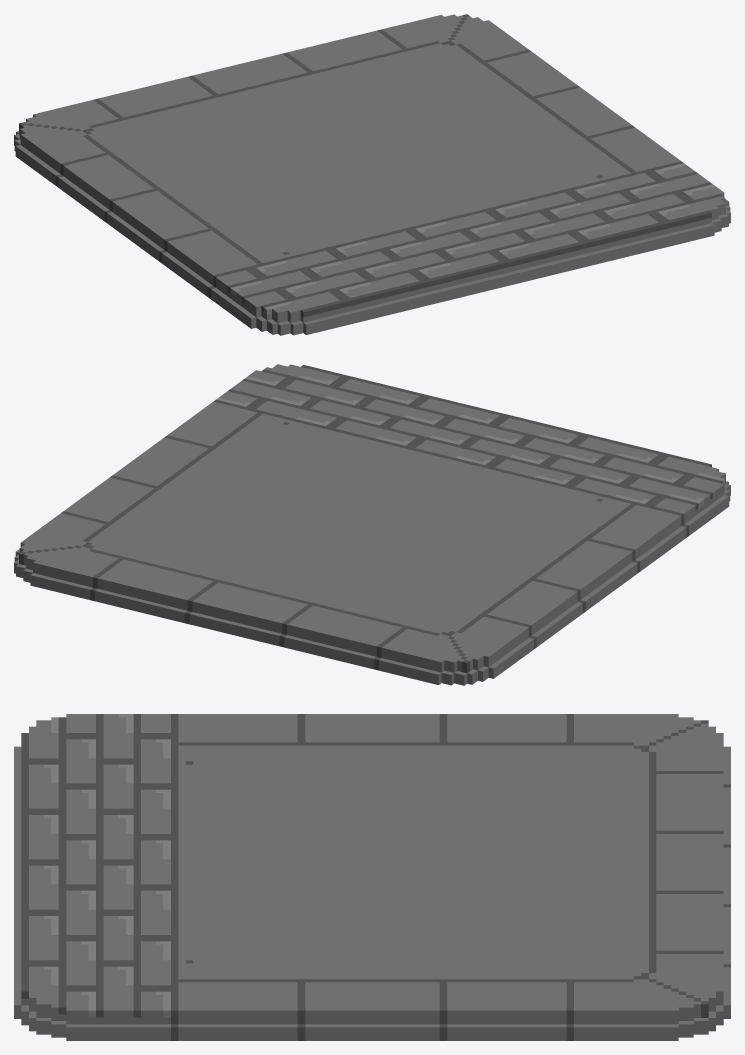
The model's file is baseFour.glb.
3 views of the same model, one above another, from view 1: azimuth 30°, elevation 25°; view 2: azimuth 150°, elevation 25°; view 3: azimuth 270°, elevation 25° (orthographic). The views are drawn at different scales.
Parts seen in each view (by area): view 1: ObjObject; view 2: ObjObject; view 3: ObjObject.
Boxes of the visible parts, x1,y1,x2,y2 form: ObjObject: (14,14,730,335); ObjObject: (14,364,730,685); ObjObject: (14,714,730,1040).
Size of the model in its own units: 9.6 by 0.4 by 9.6.
1 material, 1 textured.
